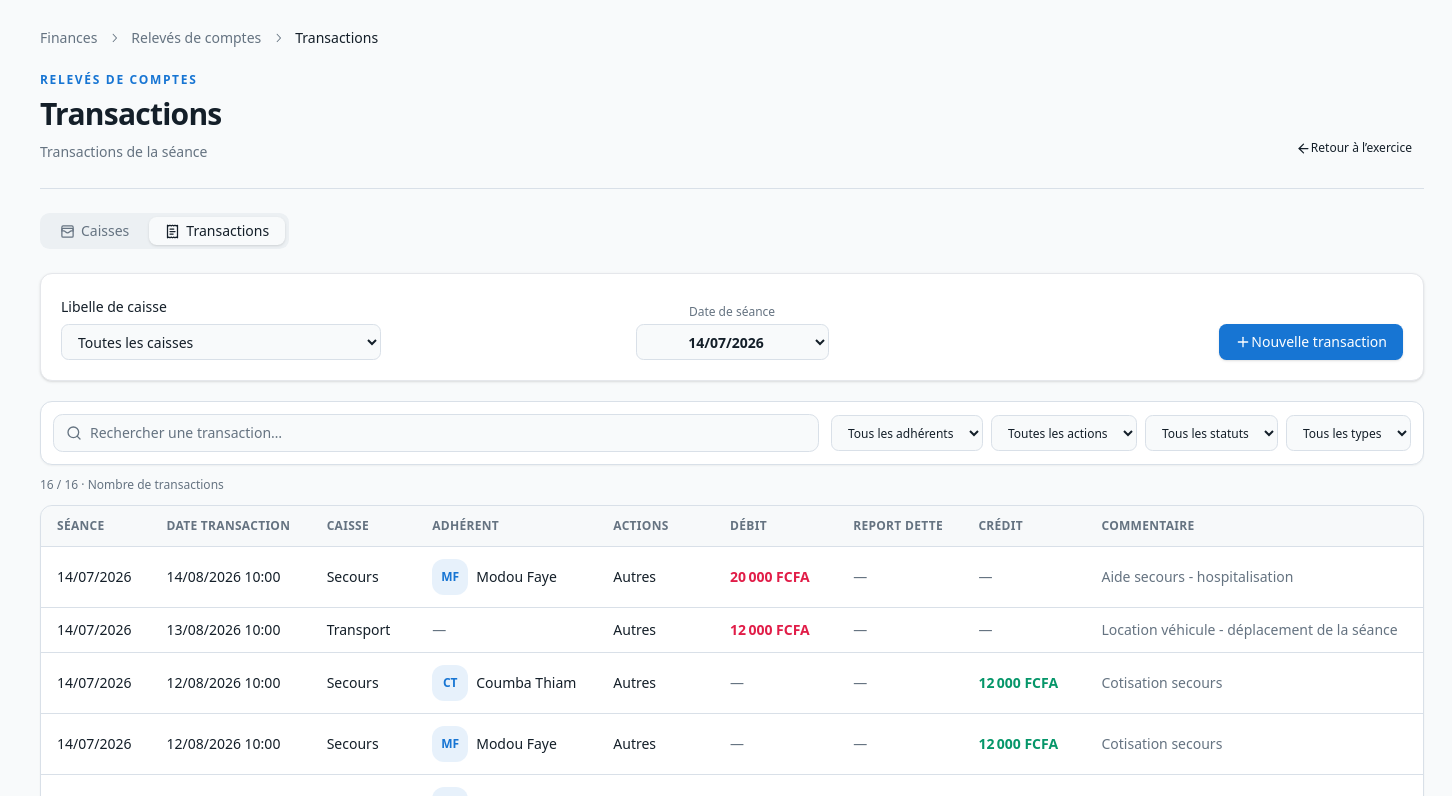
Test case: Séance depuis Exercices fiscaux → Trésorerie → Transactions › « Retour à l’exercice » ramène à la fiche de l’exercice
Click the button "Retour à l’exercice": (1354, 148) [1284,132,1424,164]
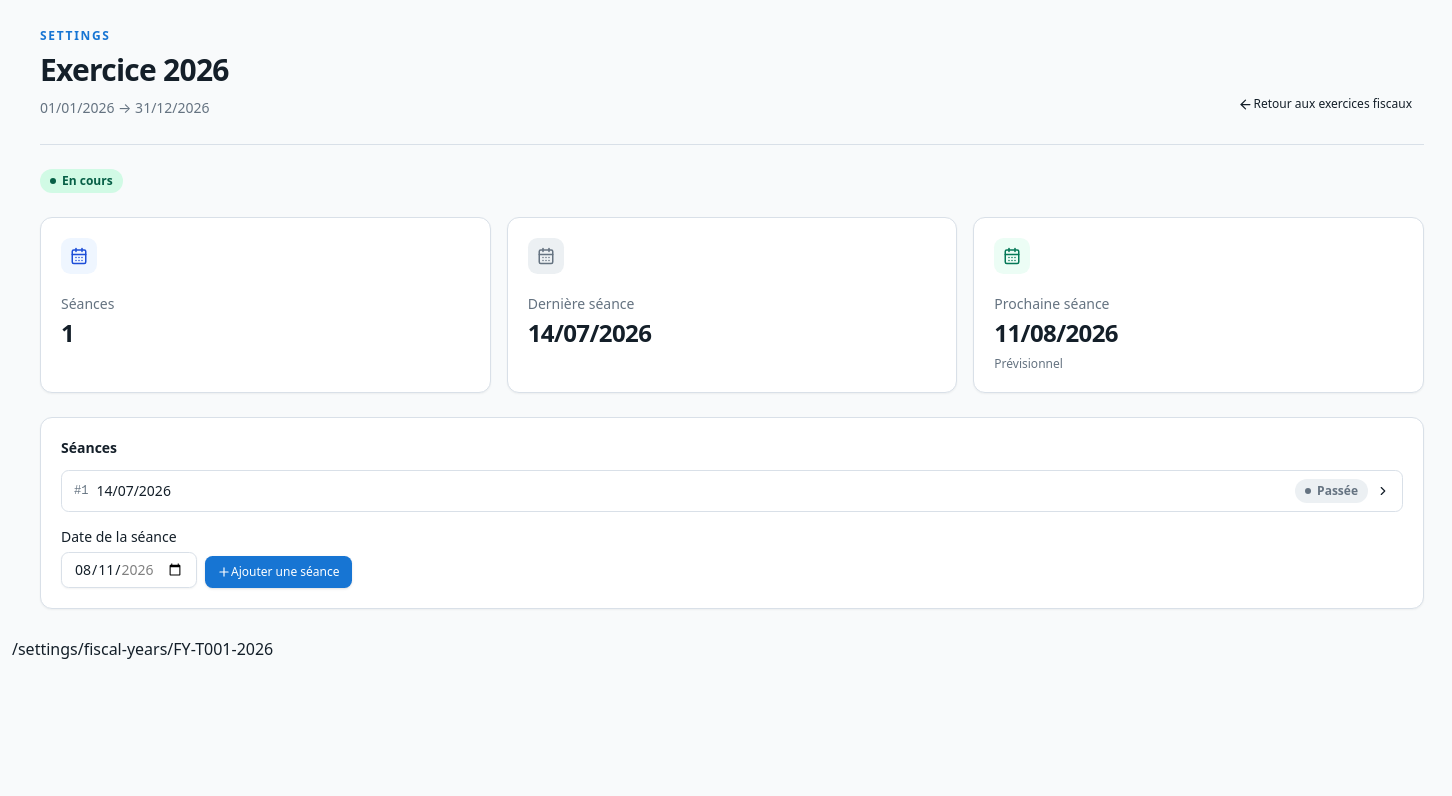
Expected: the text with test id "location" reads "/settings/fiscal-years/FY-T001-2026", [12,638,273,660]
